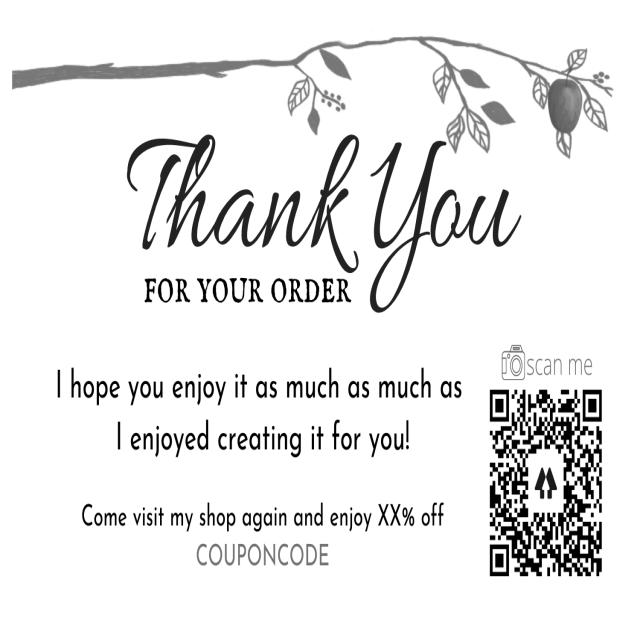QR-codes: (487, 382, 604, 579)
